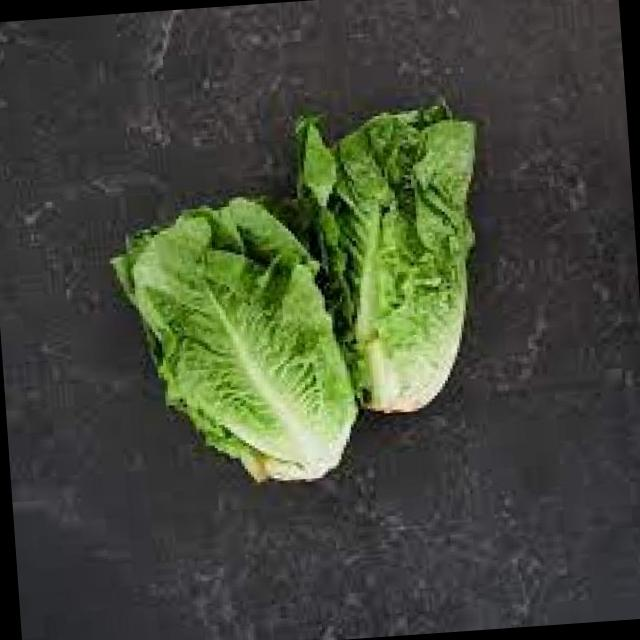Lettuce-Ready-to-Harvest: (113, 198, 357, 480), (298, 106, 474, 410)
